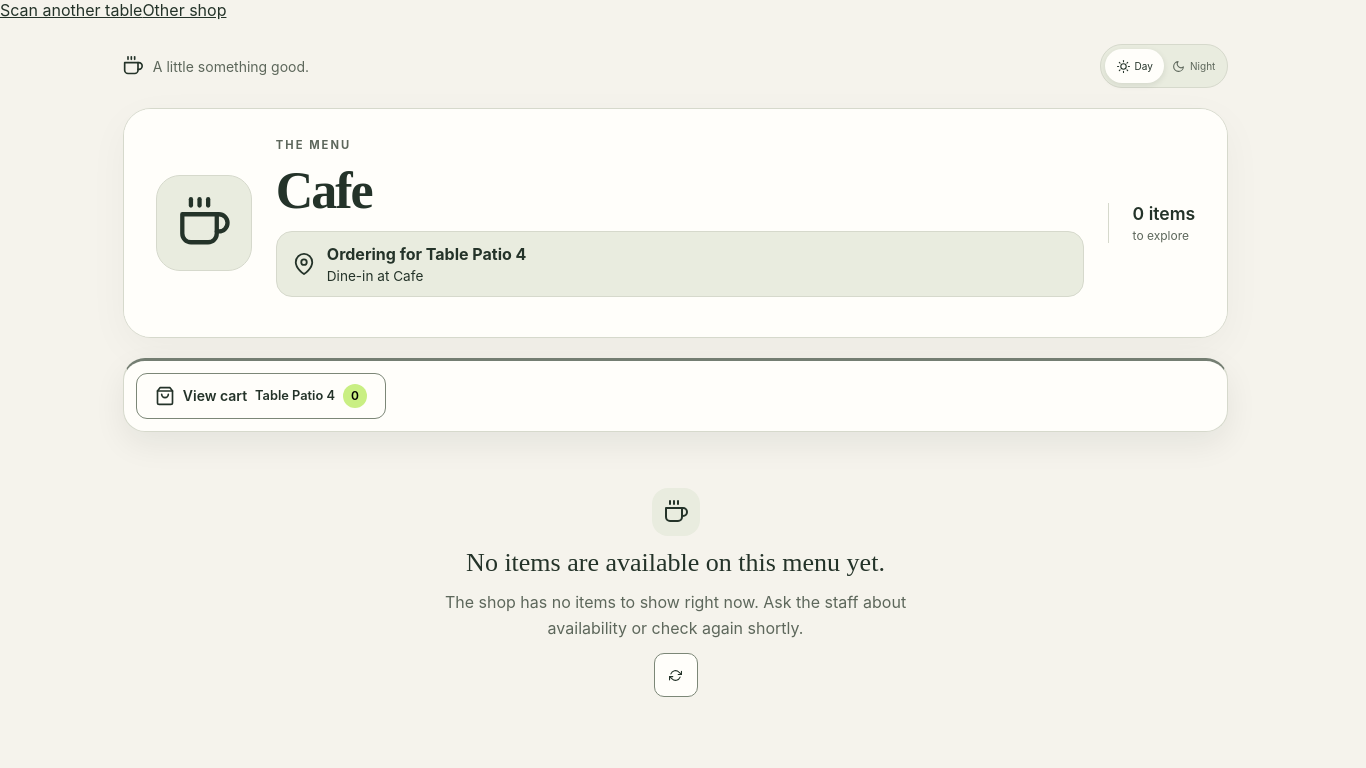
Test: shows the scanned table as context, rather than the pickup destination, after selecting takeout
Expected: the text "Ordering for Table Patio 4" is shown, top-left (327, 244), bottom-right (526, 264)
What coordinates should you click on to do the following:
click the button with aria-label "View cart (0)"
I would click on:
 (261, 396)
Its box is top-left (136, 373), bottom-right (386, 419).
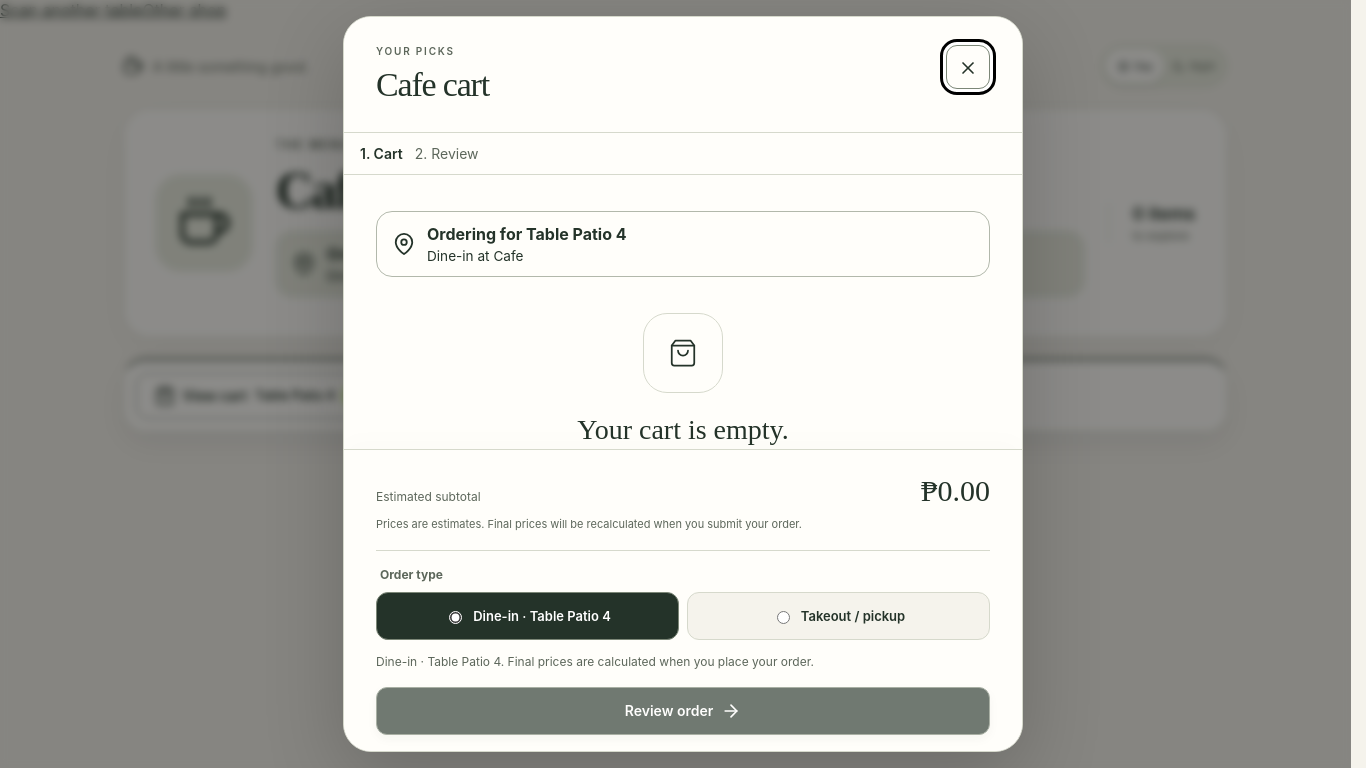
What coordinates should you click on to do the following:
click the radio button labelled "Takeout / pickup"
I would click on:
 (783, 617)
Its box is top-left (777, 611), bottom-right (790, 624).
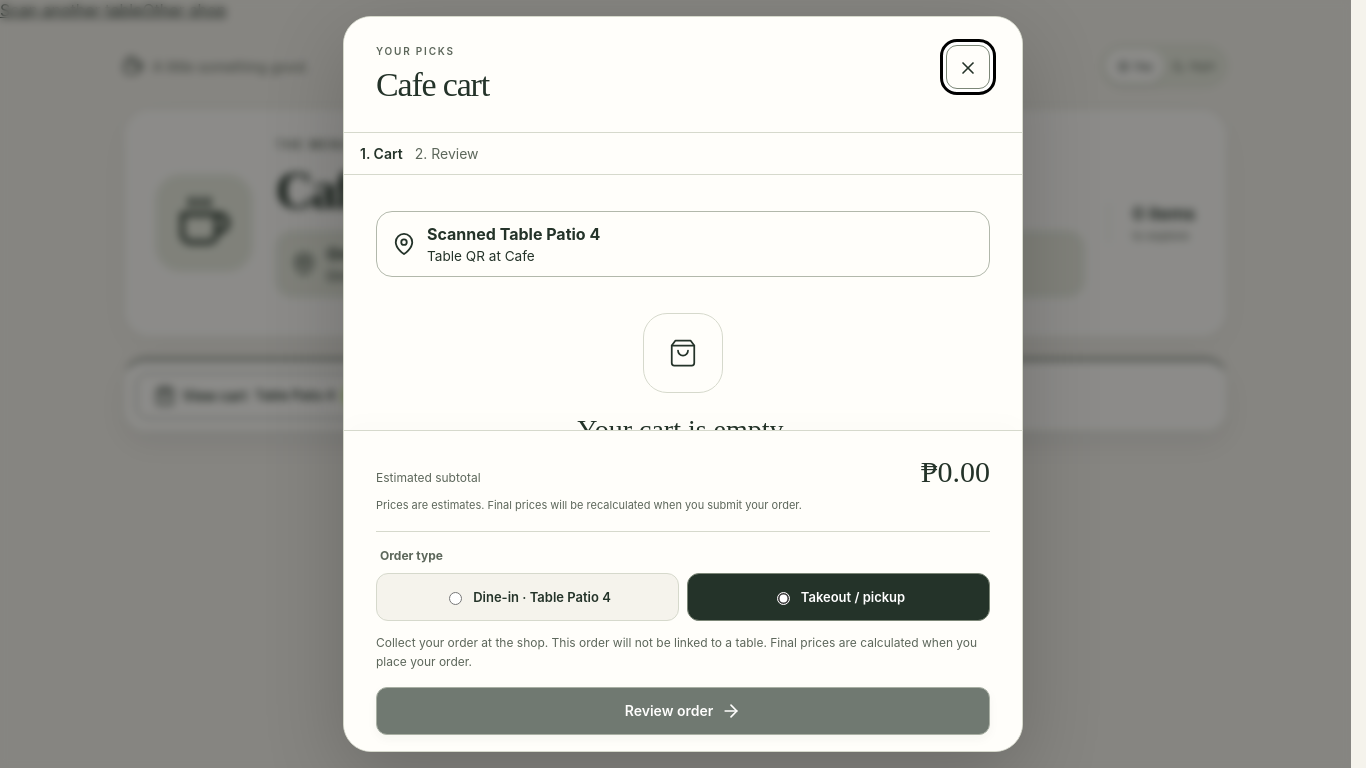
Result: the button "Review order" is disabled at top-left (376, 687), bottom-right (990, 735)
Result: the message named "Current table" shows "Scanned Table Patio 4" at top-left (376, 211), bottom-right (990, 277)
What coordinates should you click on to do the following:
click the button named "Close"
I would click on:
 (968, 67)
Its box is top-left (946, 45), bottom-right (990, 89).
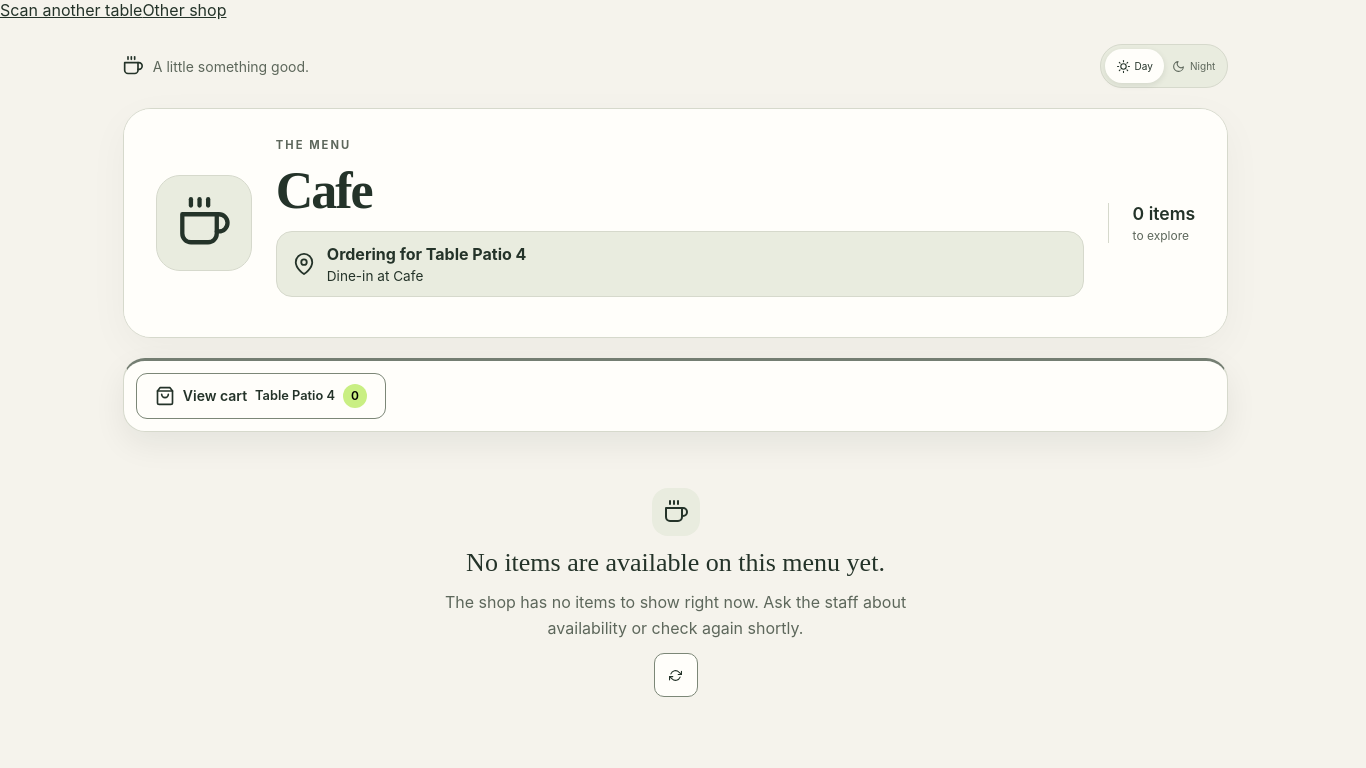
What coordinates should you click on to do the following:
click the button with aria-label "View cart (0)"
I would click on:
 (261, 396)
Its box is top-left (136, 373), bottom-right (386, 419).
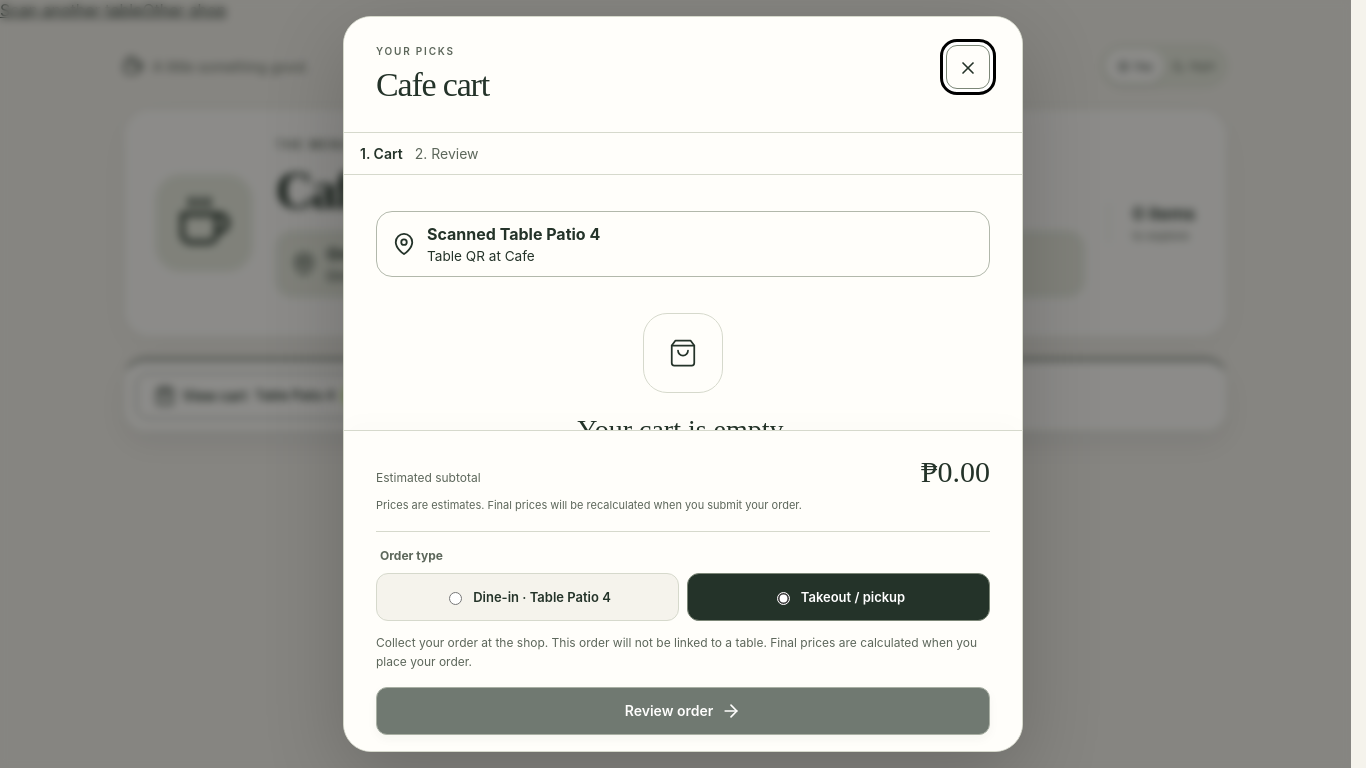
Result: the radio button labelled "Takeout / pickup" is checked at top-left (777, 592), bottom-right (790, 605)
